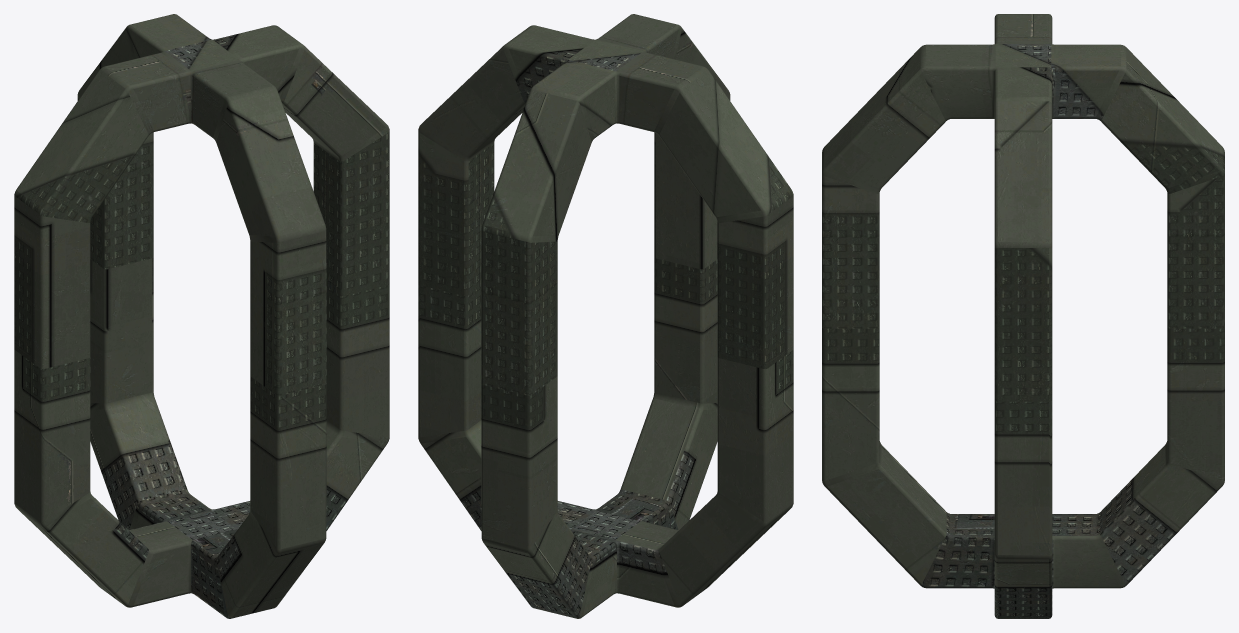
Rendered from Thing.obj.
3 views of the same model, side by side, from view 1: azimuth 30°, elevation 25°; view 2: azimuth 150°, elevation 25°; view 3: azimuth 270°, elevation 25° (orthographic).
Visible parts, largest first — view 1: cross_clean; view 2: cross_clean; view 3: cross_clean.
Part boxes in pixels (x1,y1,x2,y2): cross_clean: (14,14,389,618); cross_clean: (418,14,793,618); cross_clean: (822,14,1224,618).
Size of the model in its own units: 1344 by 1920 by 1344.
